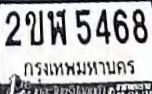2: (3, 10, 20, 46)
4: (95, 8, 110, 43)
5: (74, 8, 90, 44)
6: (112, 8, 128, 43)
8: (131, 8, 147, 43)
A02: (24, 9, 43, 45)
A42: (47, 8, 66, 44)
BKK: (20, 58, 138, 82)
